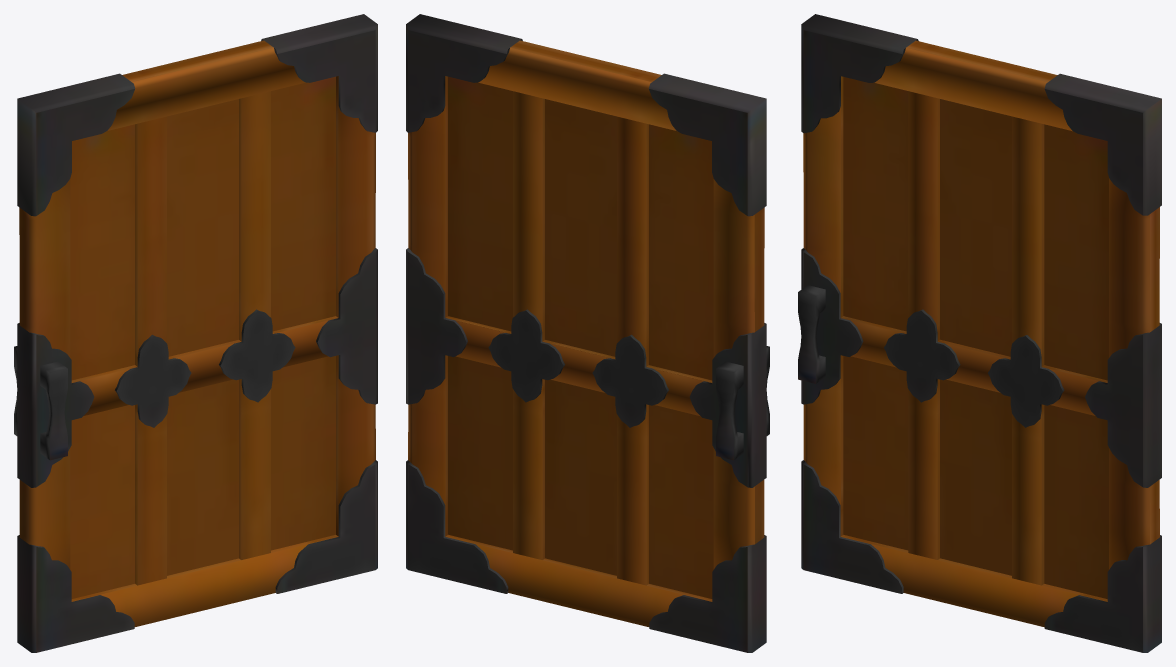
Rendered from door-japanese-s.glb.
The picture shows the model from 3 angles, left to right: view 1: azimuth 30°, elevation 25°; view 2: azimuth 150°, elevation 25°; view 3: azimuth 330°, elevation 25°; orthographic projection.
Bounding box in the file's own units: 12 × 18 × 2.16.
Materials: 1 (1 with a texture image).
